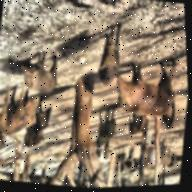boar: (107, 43, 190, 132), (89, 17, 137, 92), (5, 42, 70, 97), (0, 86, 47, 139), (15, 118, 58, 151), (87, 110, 123, 142), (32, 104, 63, 132), (0, 132, 13, 157)
